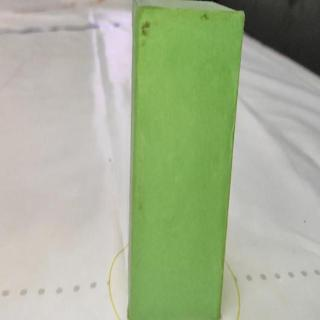greenbox: (129, 0, 245, 320)
